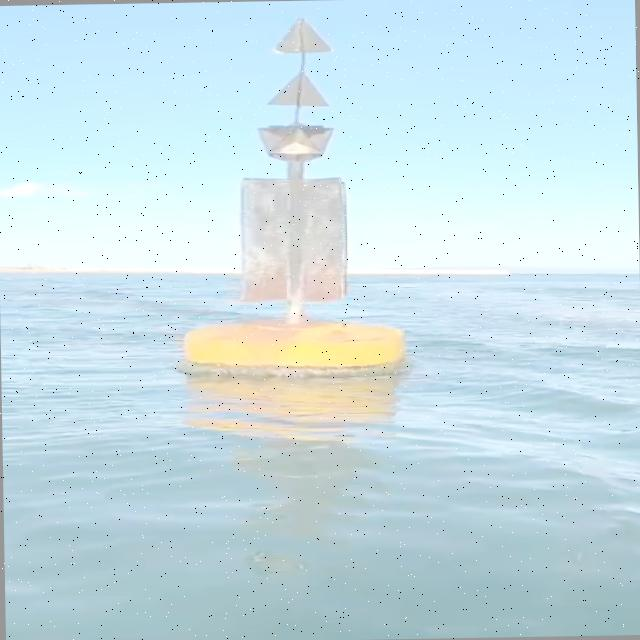marque: (178, 8, 414, 390)
